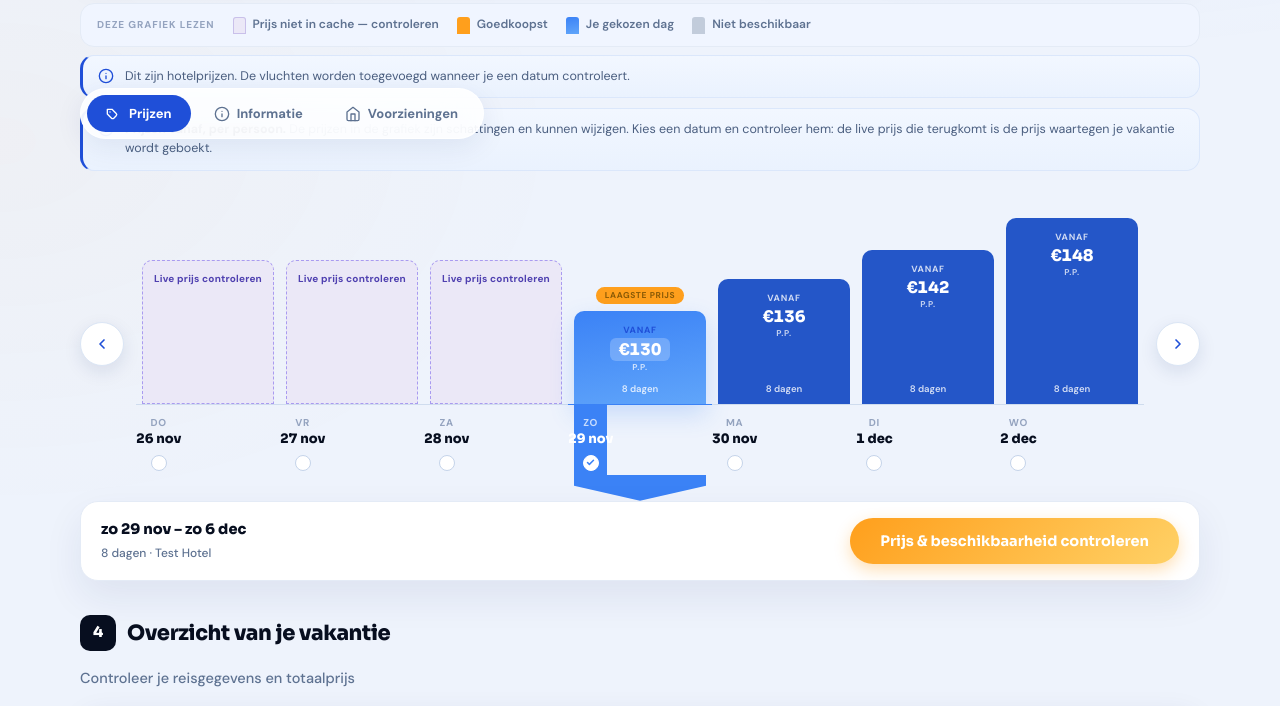
Test case: Care (meals) offers what the hotel sells › lists only the boards the hotel returned, with the cheapest price on each
(page scrolled)
Click the button "Laagste prijs vanaf €130 p.p. 8 dagen zo 29 nov".
click(640, 347)  # box [568, 193, 712, 501]
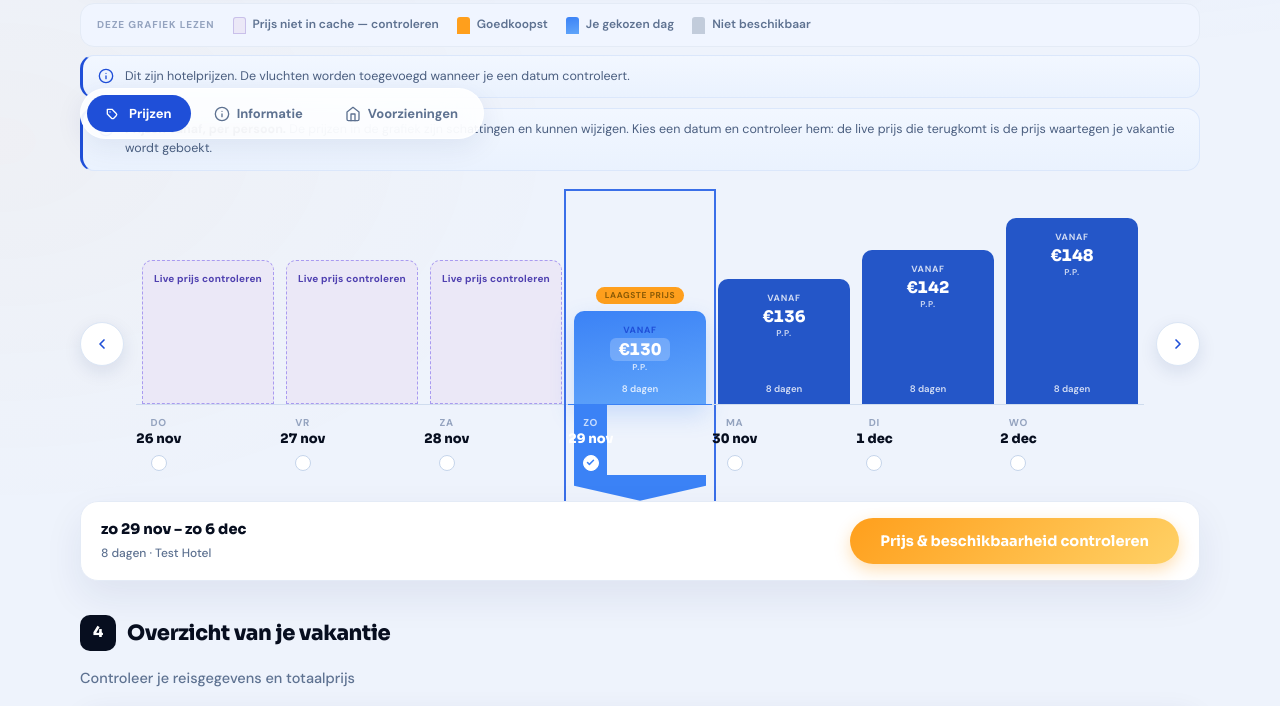
Click the button "Prijs & beschikbaarheid controleren".
click(1015, 541)  # box [850, 518, 1179, 564]
(page scrolled)
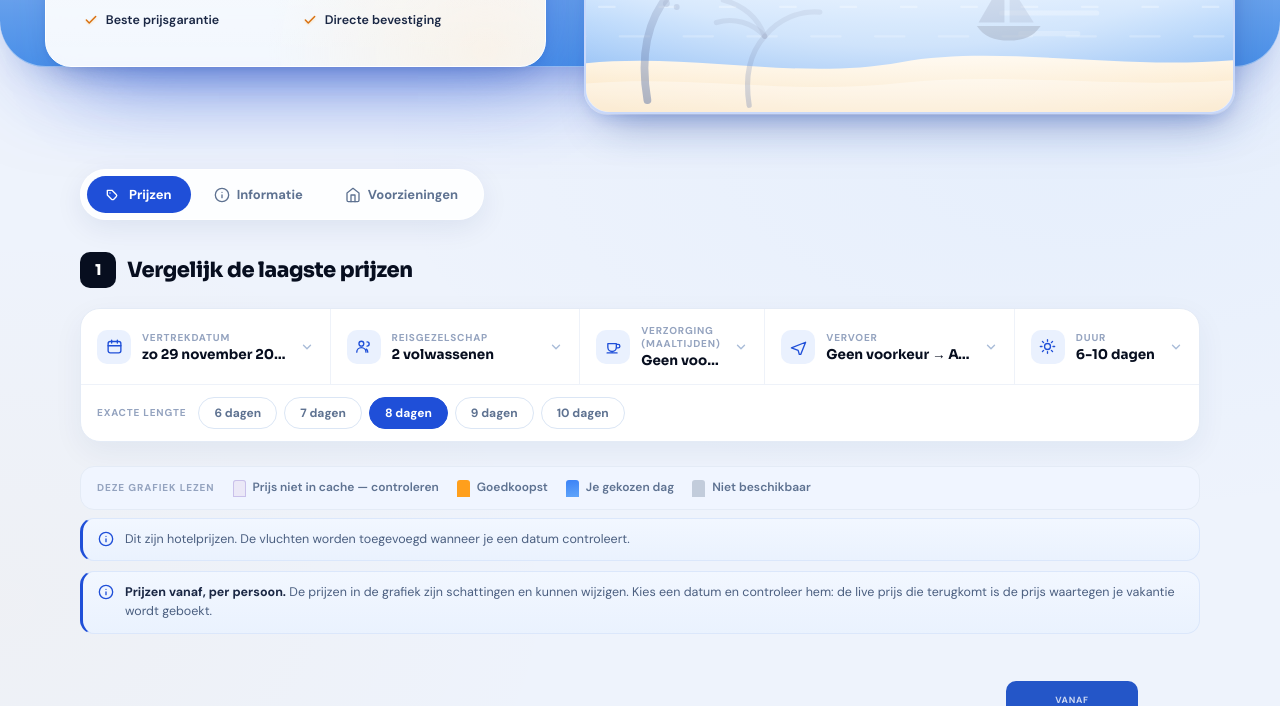
Click the button "Verzorging (maaltijden) Geen voorkeur".
click(672, 347)  # box [580, 309, 764, 384]
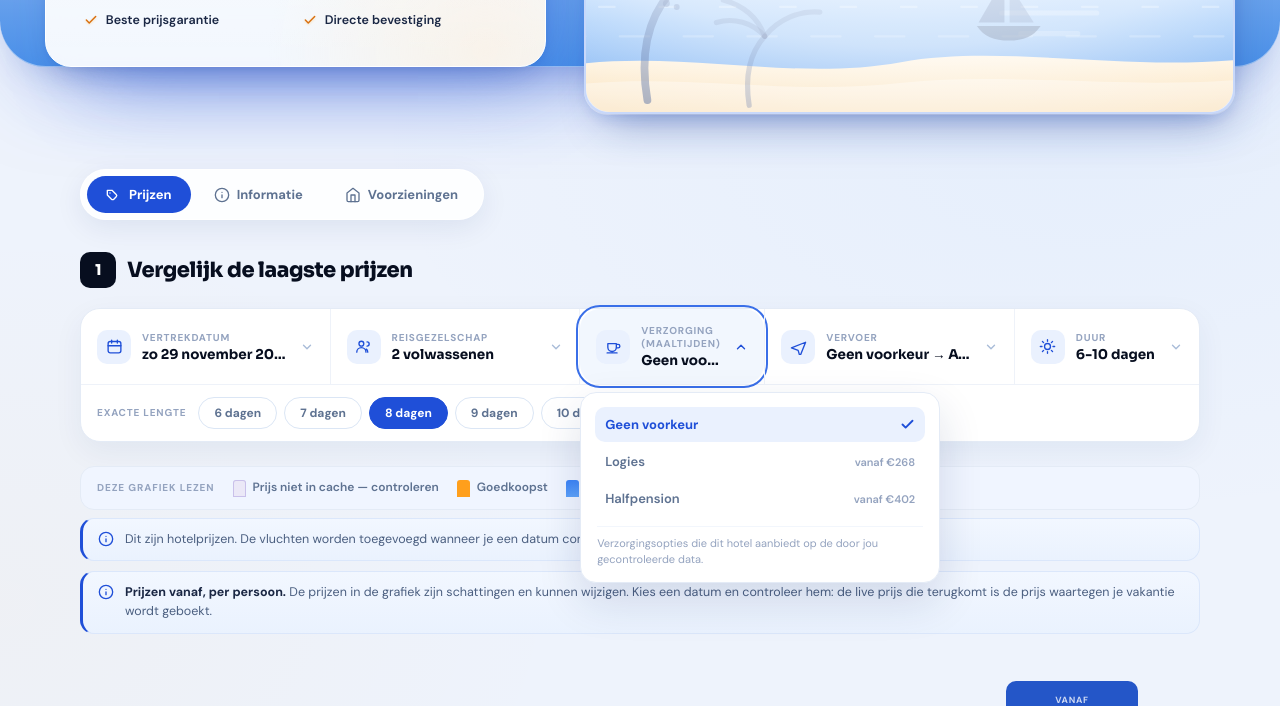
expect the dialog named "verzorging (maaltijden)" shows "verzorgingsopties die dit hotel aanbiedt": met, box [597, 536, 878, 566]
expect the button "Logies vanaf €268" is shown: met, box [595, 444, 925, 479]
expect the button "Halfpension vanaf €402" is shown: met, box [595, 481, 925, 516]
